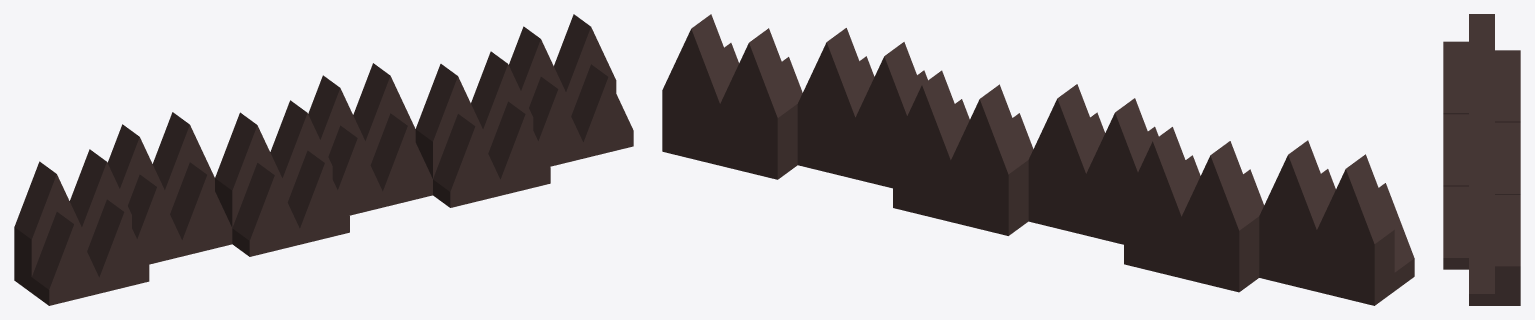
The model's file is wall_destroyed.fbx.
The picture shows the model from 3 angles, left to right: view 1: azimuth 30°, elevation 25°; view 2: azimuth 150°, elevation 25°; view 3: azimuth 270°, elevation 25°; orthographic projection. The views are drawn at different scales.
Visible parts, largest first — view 1: Wall.Destroyed; view 2: Wall.Destroyed; view 3: Wall.Destroyed.
Part boxes in pixels (x1,y1,x2,y2): Wall.Destroyed: [14, 14, 633, 305]; Wall.Destroyed: [662, 14, 1414, 305]; Wall.Destroyed: [1443, 14, 1520, 305].
Size of the model in its own units: 400 by 71.86 by 60.
